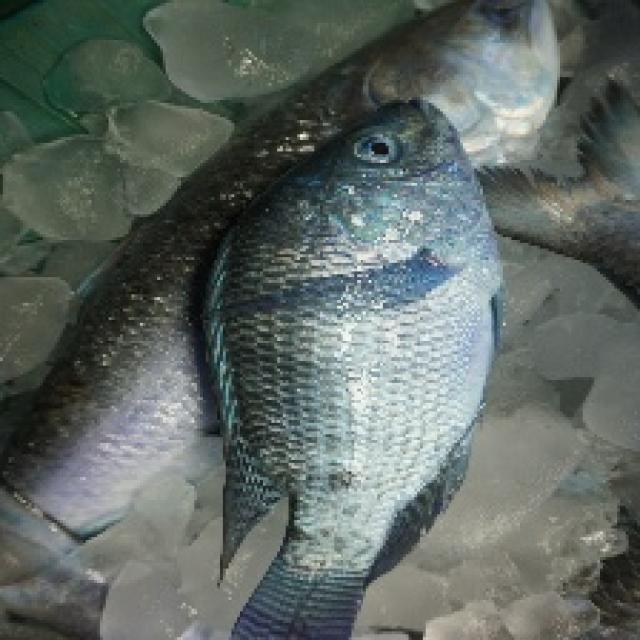Fresh: (239, 98, 537, 560)
